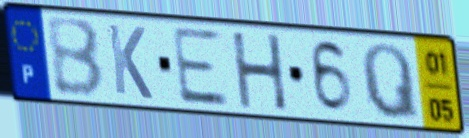6: (307, 38, 356, 116)
B: (43, 17, 108, 101)
E: (168, 24, 232, 109)
H: (228, 30, 291, 113)
K: (105, 21, 156, 103)
Q: (359, 40, 423, 124)
